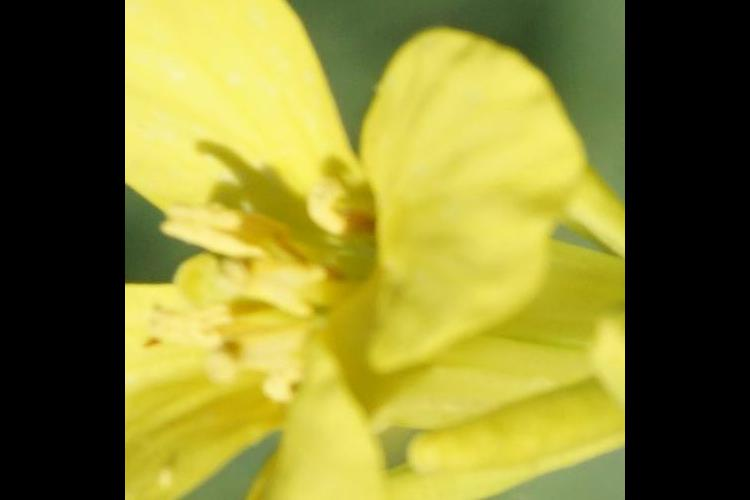yellow: (131, 1, 617, 500)
